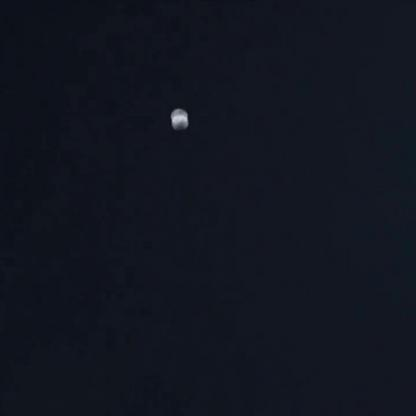ball: (166, 103, 192, 133)
